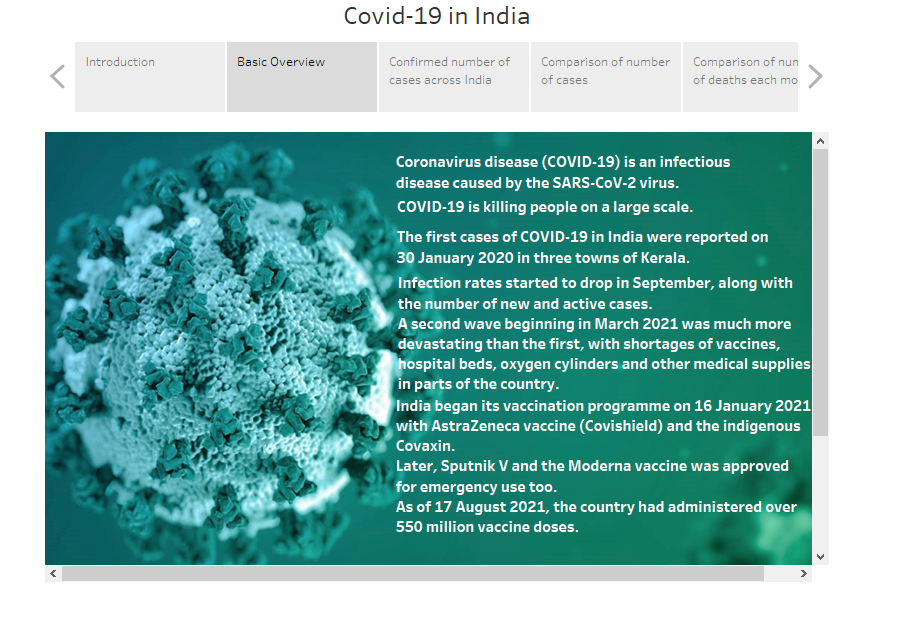

The page's visual inventory and layout, read from the dashboard file:
{"tool":"tableau","page":{"name":"Dashboard 2","canvas":[800,600],"ordinal":1},"visuals":[{"type":"image","box":[8,8,784,584]},{"type":"text","box":[308,19,455,114]},{"type":"image","param":"C:/Users/Shailendra/Downloads/covid19-1600x900.jpg","box":[29,29,273,161]},{"type":"text","box":[349,111,405,30]},{"type":"text","box":[219,230,474,92]},{"type":"text","box":[33,338,529,70]}]}

Visuals, with their boxes on the page's 800x600 design canvas (x1, y1, x2, y2). These are canvas units, not pixel positions in the 922x618 screenshot, which may show the page scaled, cropped or inside an application window:
image: crop(8, 8, 792, 592)
text: crop(308, 19, 763, 133)
image: crop(29, 29, 302, 190)
text: crop(349, 111, 754, 141)
text: crop(219, 230, 693, 322)
text: crop(33, 338, 562, 408)
